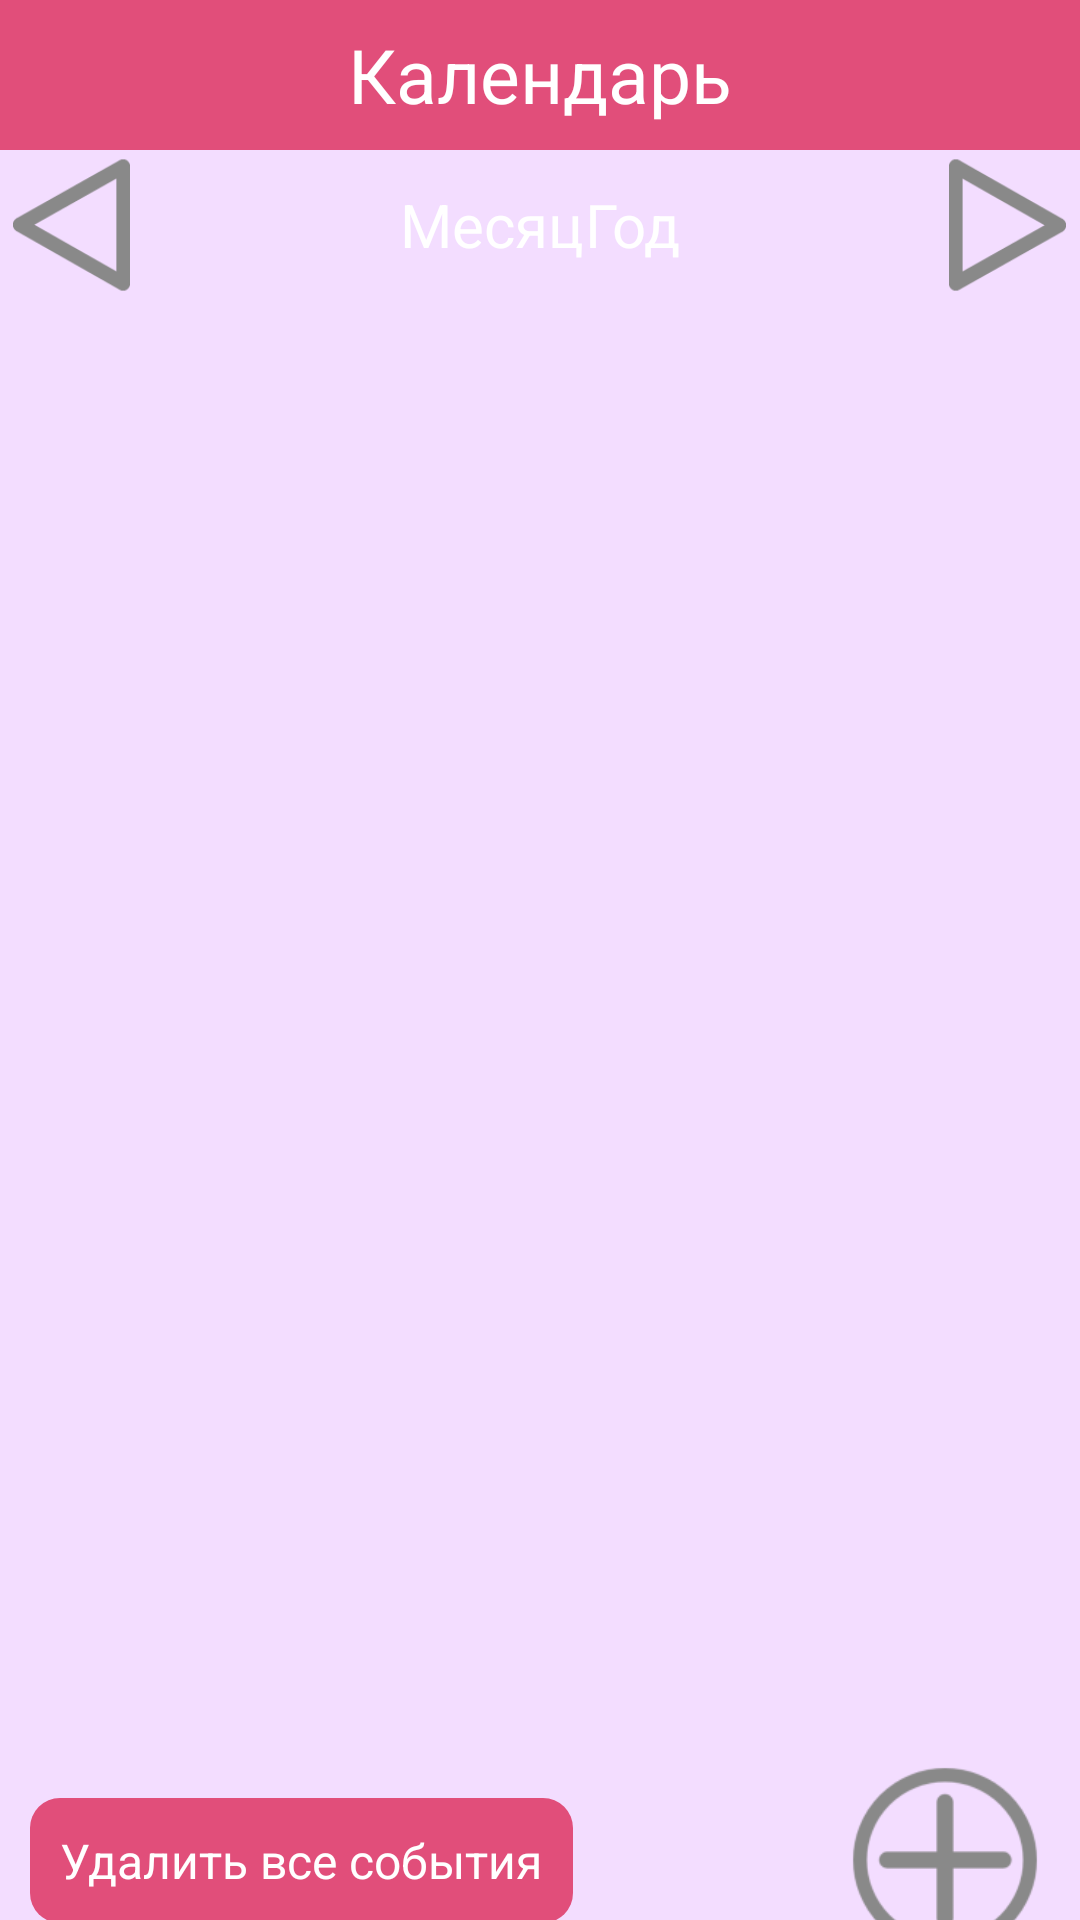

Screen size 1080 x 1920. Icon name, then its center in pixels as (x=x, y=y):
arrow leat: (x=71, y=225)
arrow right: (x=1007, y=225)
